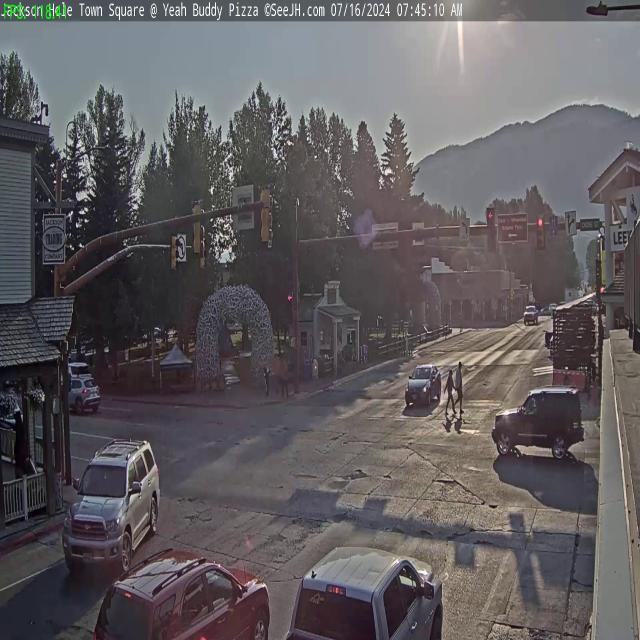person: (444, 368, 456, 414), (454, 361, 464, 414)
pickup: (285, 544, 443, 638), (523, 304, 538, 326)
sedan: (404, 362, 442, 408)
suv: (94, 548, 270, 639), (61, 436, 160, 577), (491, 384, 582, 460), (68, 376, 100, 414)
traffic light: (260, 188, 271, 243), (192, 200, 202, 254), (486, 206, 496, 251), (200, 224, 207, 270), (536, 216, 545, 250), (170, 234, 177, 270), (486, 207, 494, 229)
